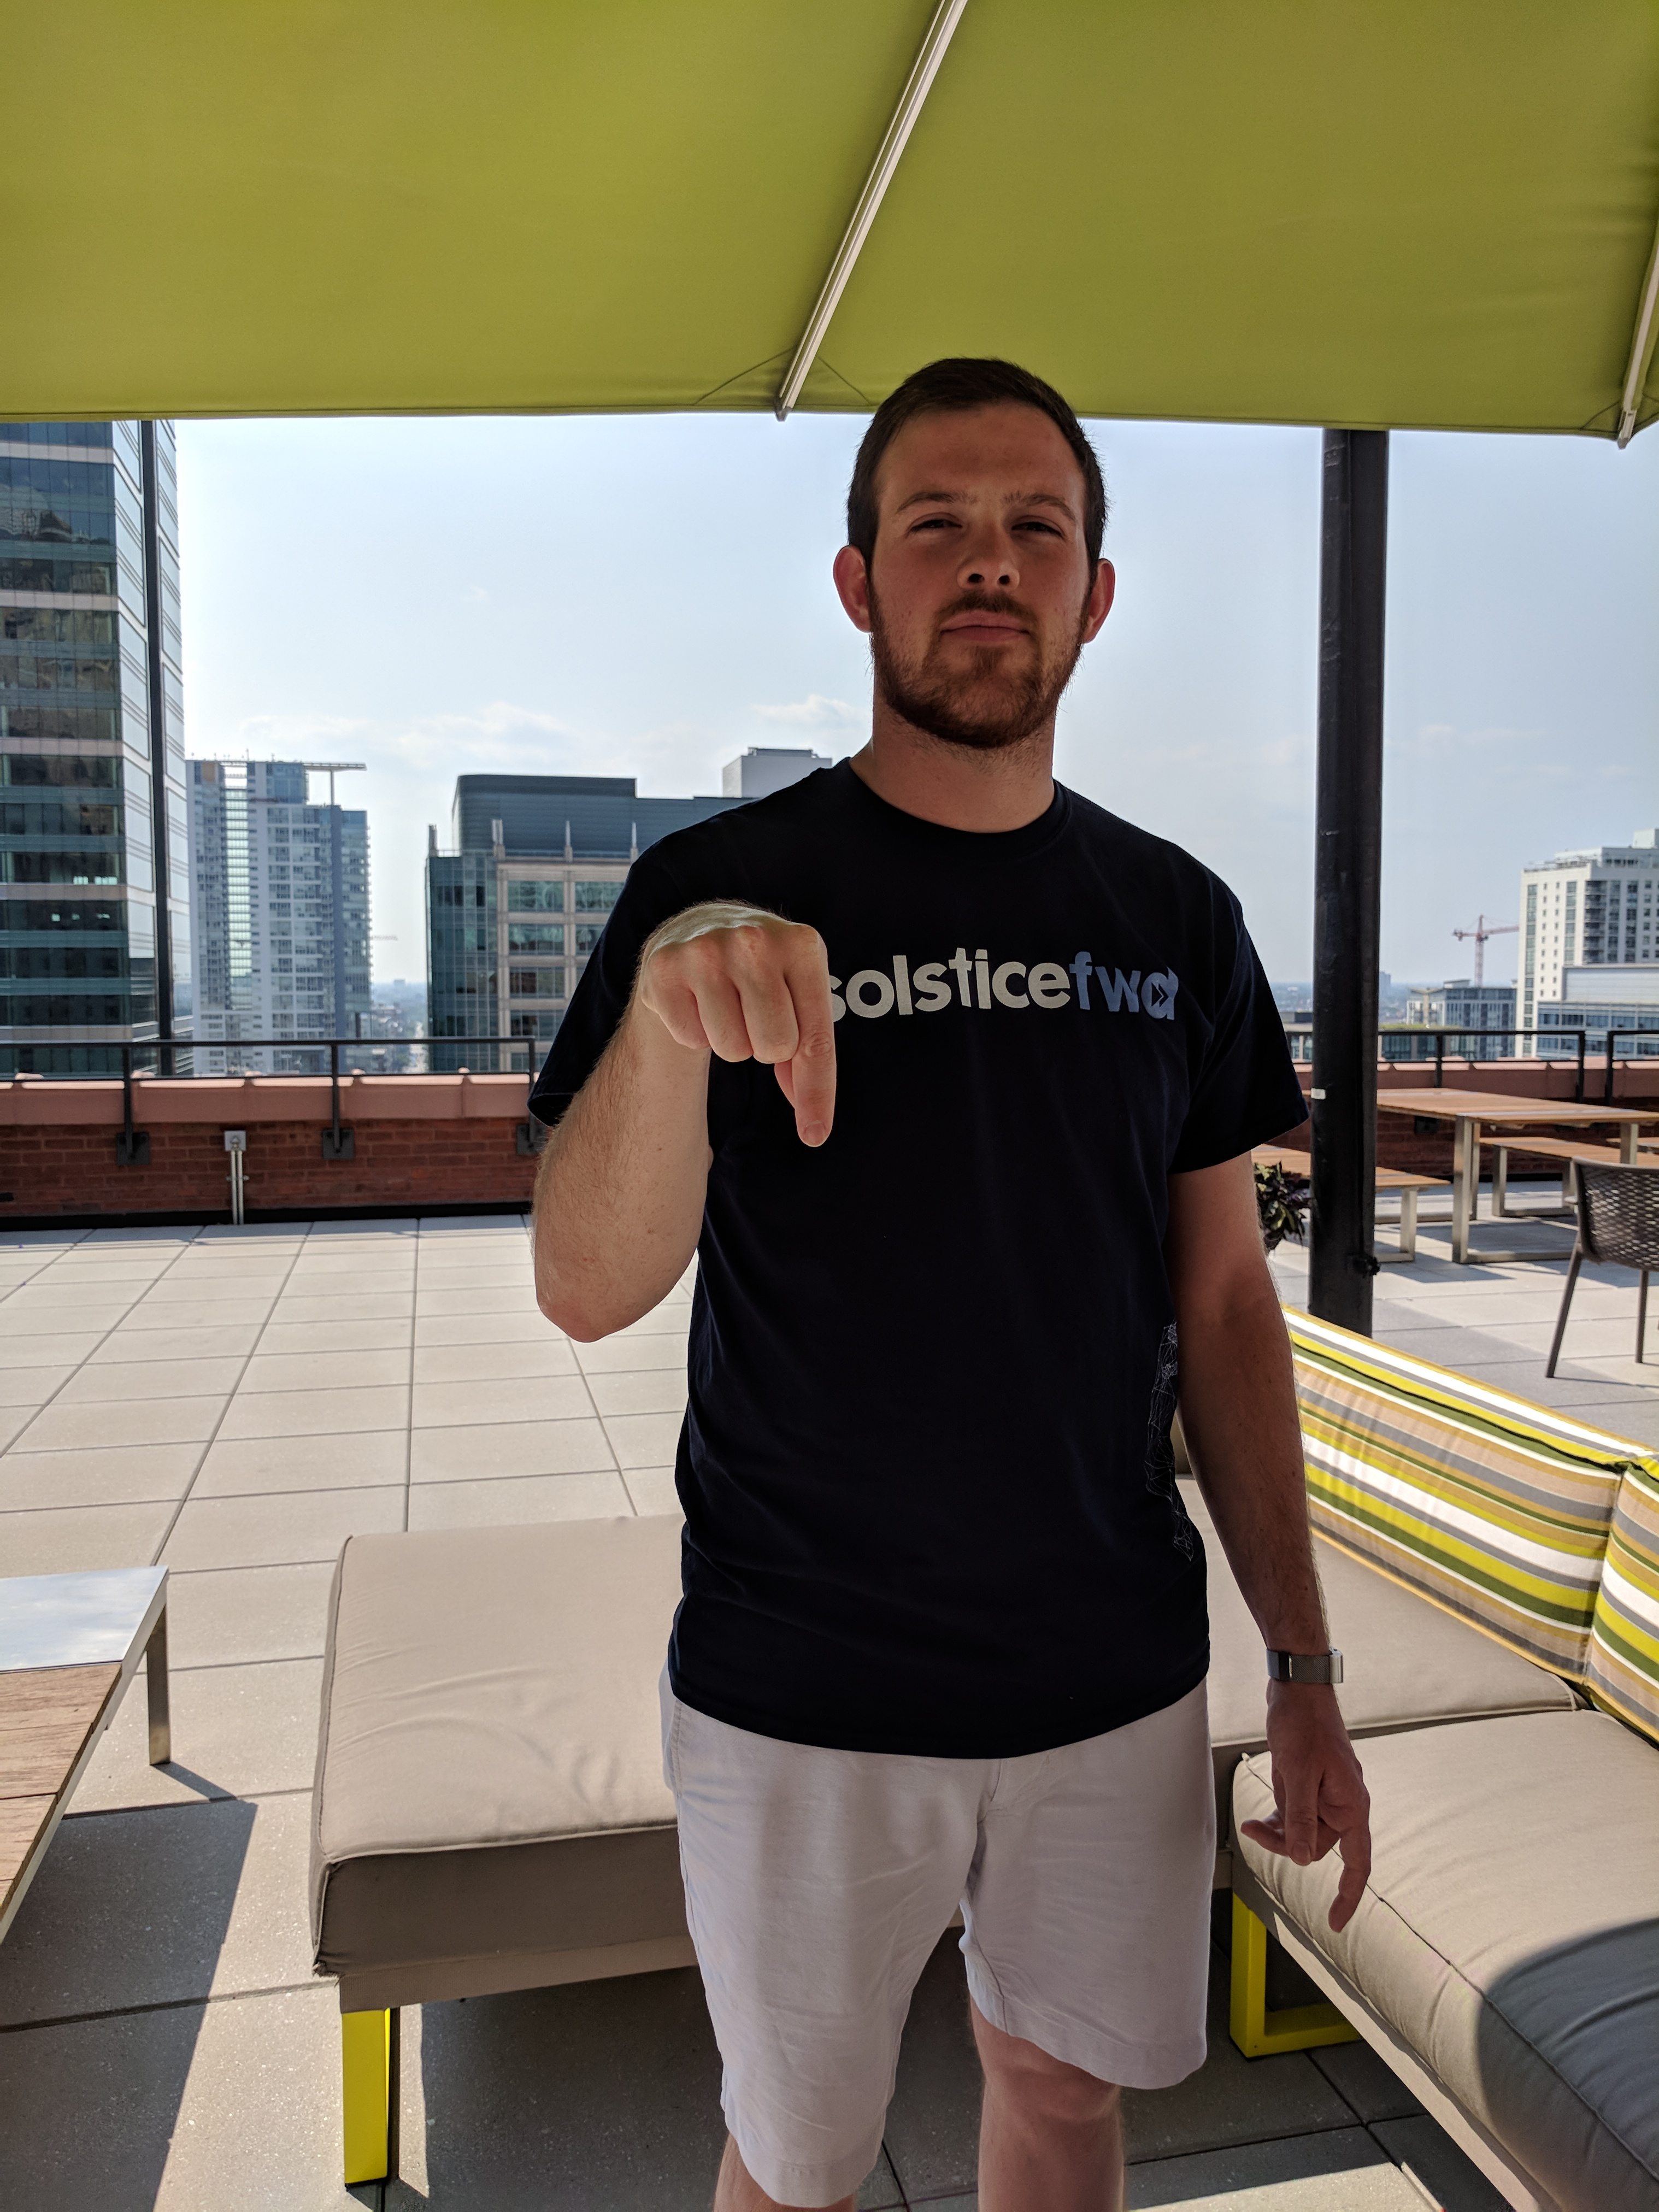q: (636, 895, 856, 1151)
